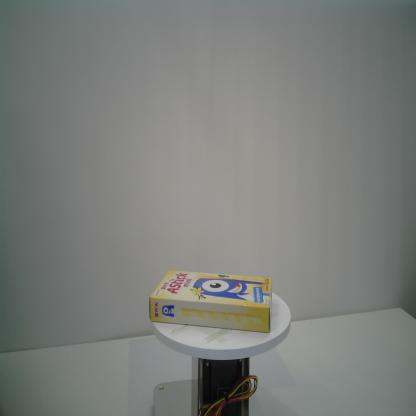Dessert: (149, 268, 273, 334)
